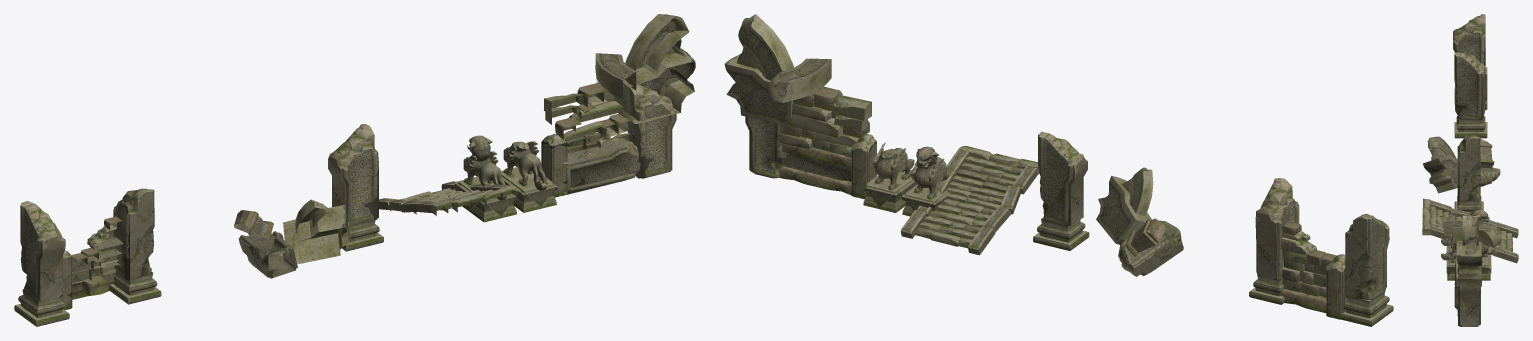
Rendered from yewai_static.fbx.
3 renders of one model, left to right at view 1: azimuth 30°, elevation 25°; view 2: azimuth 150°, elevation 25°; view 3: azimuth 270°, elevation 25°, orthographic. The views are drawn at different scales.
Visible parts, largest first — view 1: yewai_static20e, yewai_static20d, yewai_static20f, yewai_static20d01, yewai_static20a, yewai_static20b, yewai_static20c; view 2: yewai_static20e, yewai_static20d, yewai_static20c, yewai_static20f, yewai_static20d01, yewai_static20a, yewai_static20b; view 3: yewai_static20d, yewai_static20e, yewai_static20f, yewai_static20c, yewai_static20d01, yewai_static20a, yewai_static20b.
Boxes of the visible parts, box(x1,y1,x2,y2) form: yewai_static20e: box(541, 14, 695, 197); yewai_static20d: box(14, 188, 161, 326); yewai_static20f: box(234, 199, 350, 278); yewai_static20d01: box(328, 124, 383, 251); yewai_static20a: box(501, 141, 557, 212); yewai_static20b: box(454, 135, 517, 222); yewai_static20c: box(379, 181, 517, 215); yewai_static20e: box(724, 14, 876, 199); yewai_static20d: box(1249, 178, 1393, 326); yewai_static20c: box(900, 146, 1039, 255); yewai_static20f: box(1096, 167, 1183, 276); yewai_static20d01: box(1033, 131, 1089, 250); yewai_static20a: box(863, 142, 916, 212); yewai_static20b: box(901, 146, 950, 216); yewai_static20d: box(1453, 14, 1487, 138); yewai_static20e: box(1443, 215, 1501, 326); yewai_static20f: box(1423, 136, 1500, 193); yewai_static20c: box(1422, 198, 1518, 263); yewai_static20d01: box(1454, 135, 1483, 212); yewai_static20a: box(1441, 243, 1491, 280); yewai_static20b: box(1441, 209, 1491, 254).
Bounding box in the file's own units: 2417 × 548 × 409.
